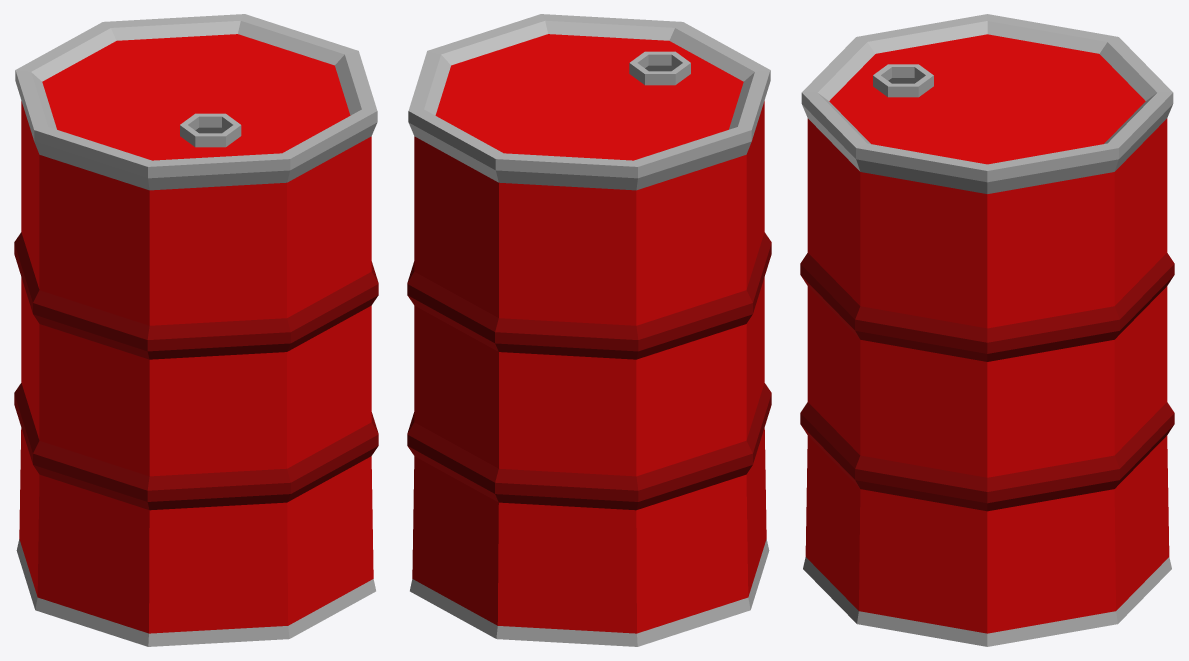
Rendered from Barrel Metal Red.fbx.
3 renders of one model, left to right at view 1: azimuth 30°, elevation 25°; view 2: azimuth 150°, elevation 25°; view 3: azimuth 270°, elevation 25°, orthographic.
Visible parts, largest first — view 1: Barrel Metal Red; view 2: Barrel Metal Red; view 3: Barrel Metal Red.
Boxes of the visible parts, x1=… form: Barrel Metal Red: x1=14, y1=14, x2=378, y2=646; Barrel Metal Red: x1=407, y1=14, x2=771, y2=646; Barrel Metal Red: x1=800, y1=14, x2=1174, y2=646.
Size of the model in its own units: 82 by 116 by 82.
